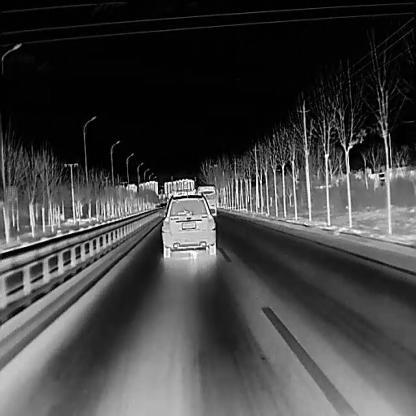car: (161, 192, 215, 258), (194, 184, 216, 215)
